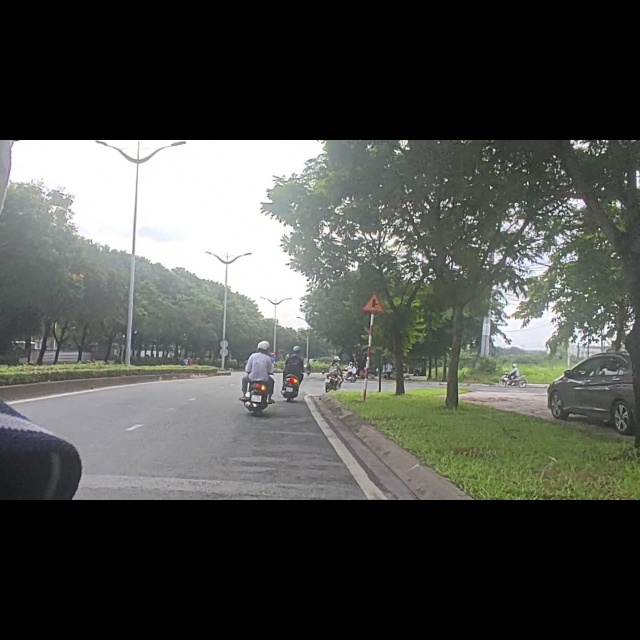Giao nhau với đường không ưu tiên: (360, 288, 387, 312)
